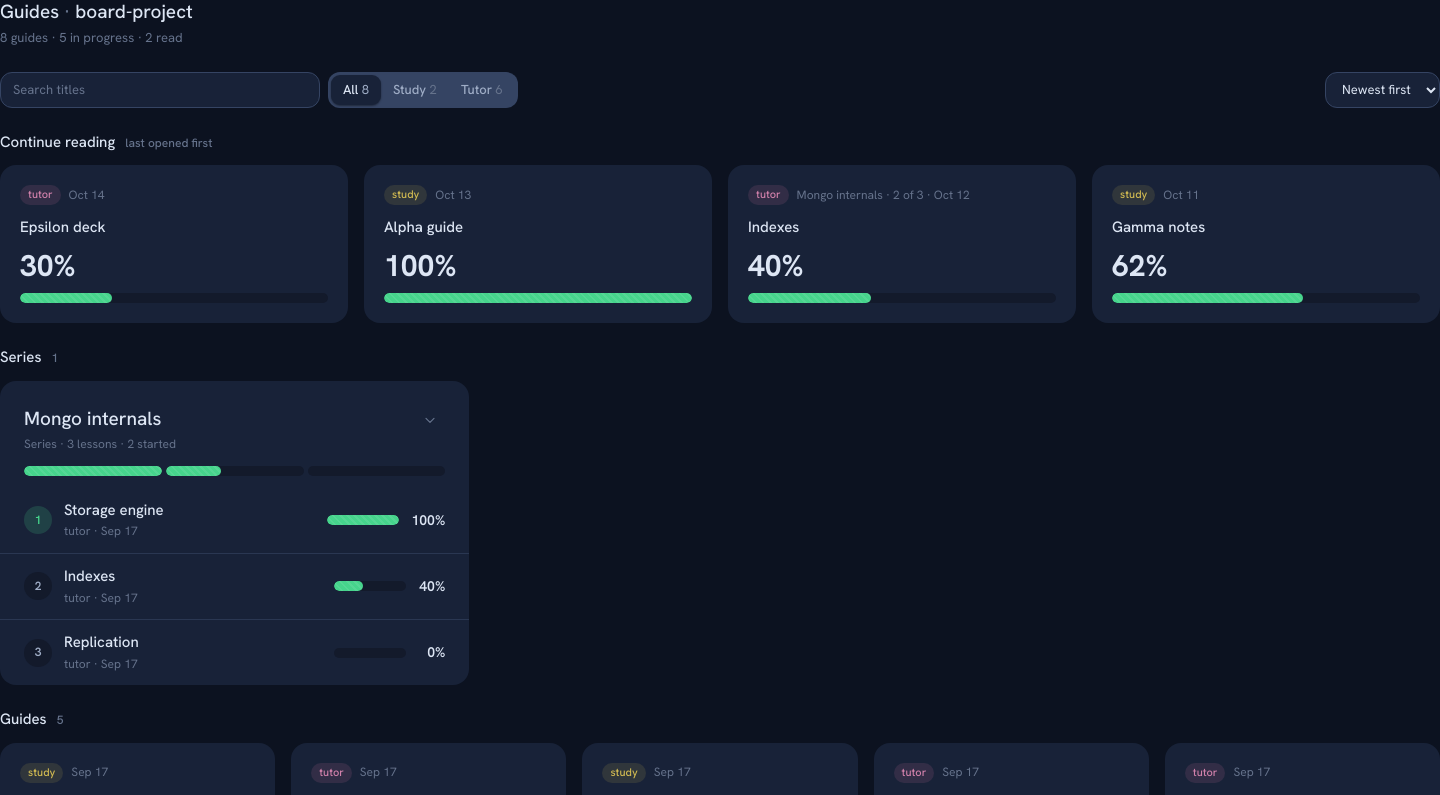
Test: GuidesView › hides Continue reading while a query runs, and again while a type is picked
This screenshot has width=1440, height=795.
Type "e" into the search field named "Search guides" at (160, 90), box [0,72,320,108]
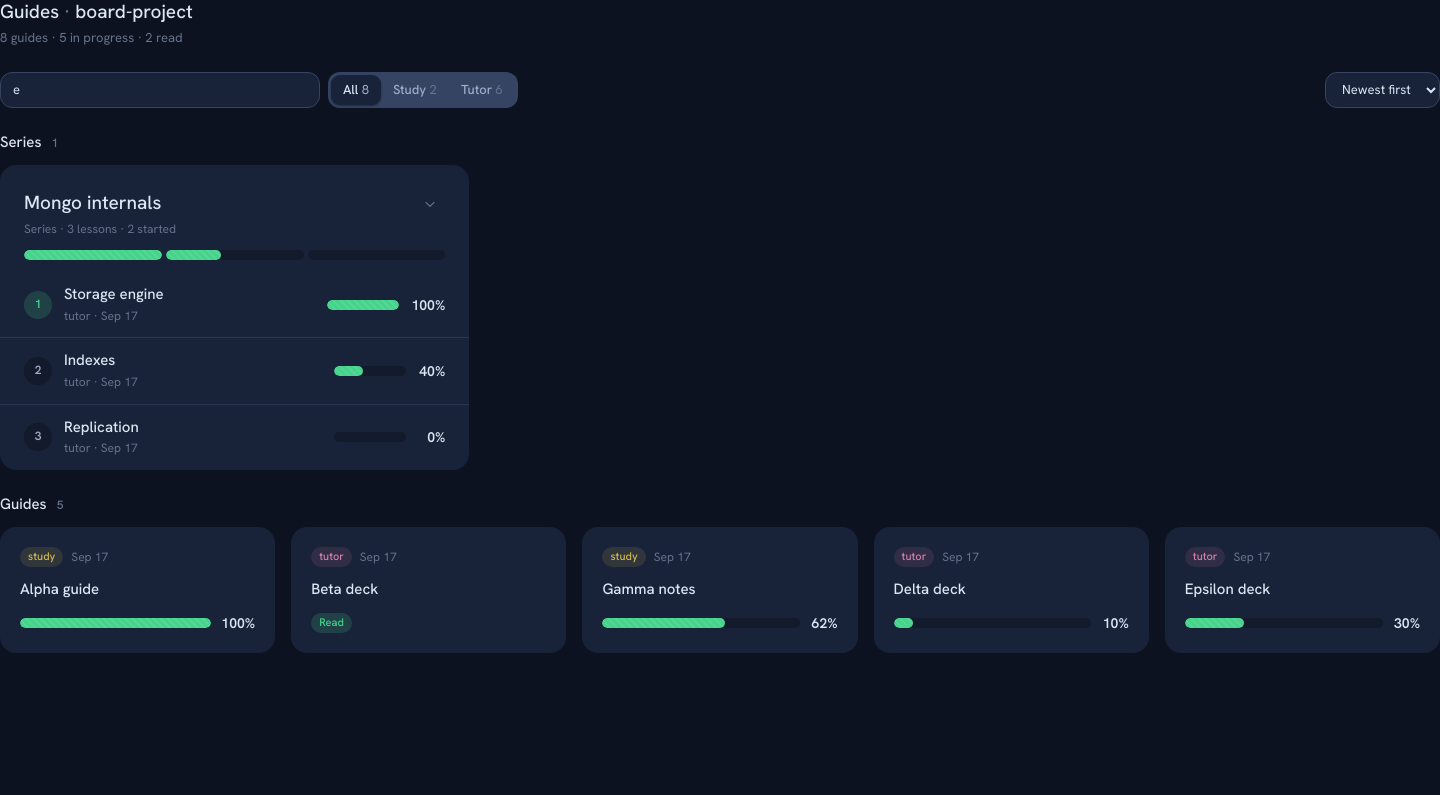
Check: the element with class "continue" is gone
Clear the search field named "Search guides" at (160, 90), box [0,72,320,108]
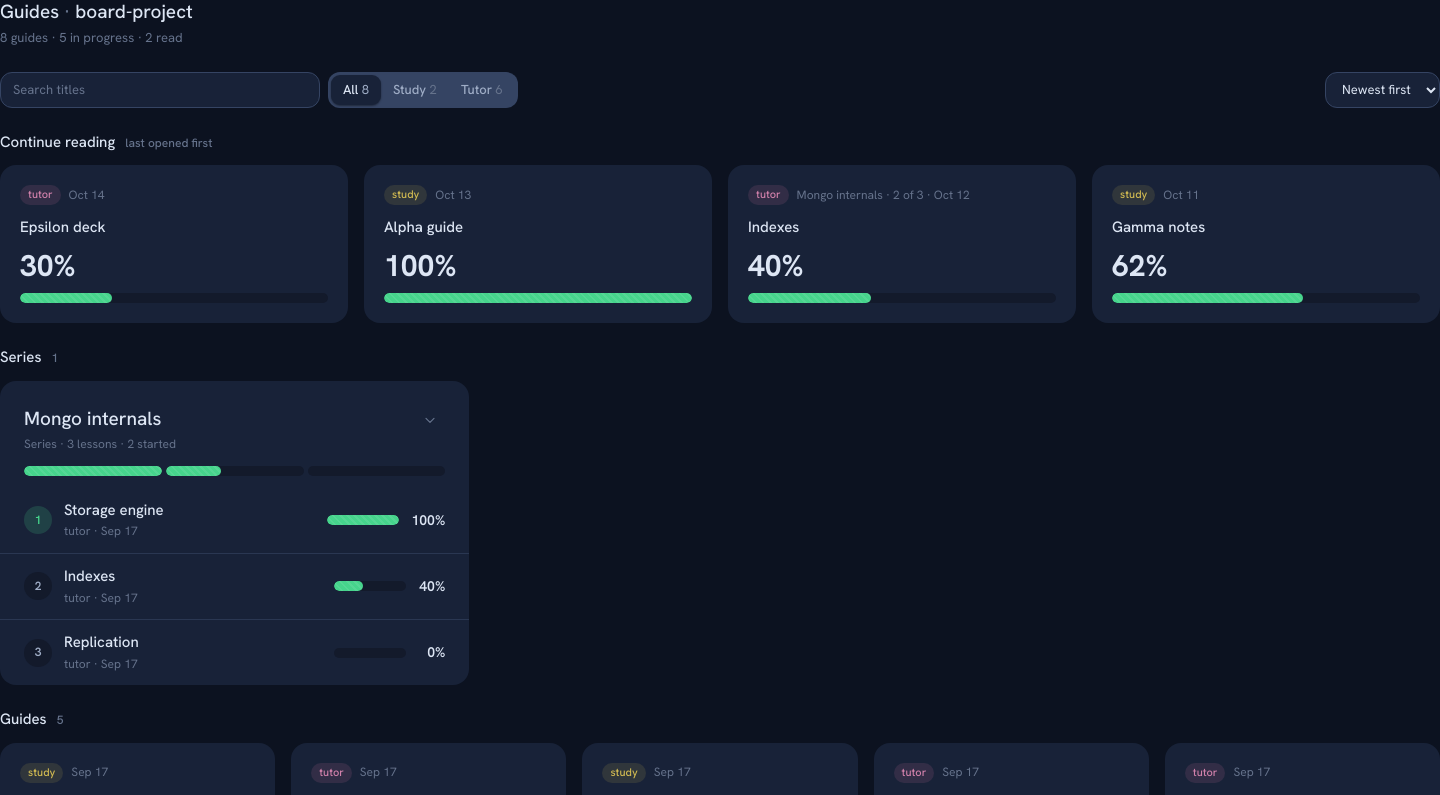
Check: the element with class "continue" is shown, box [0,132,1439,323]
Click the button "Study 2" at (415, 90), box [381,74,449,104]
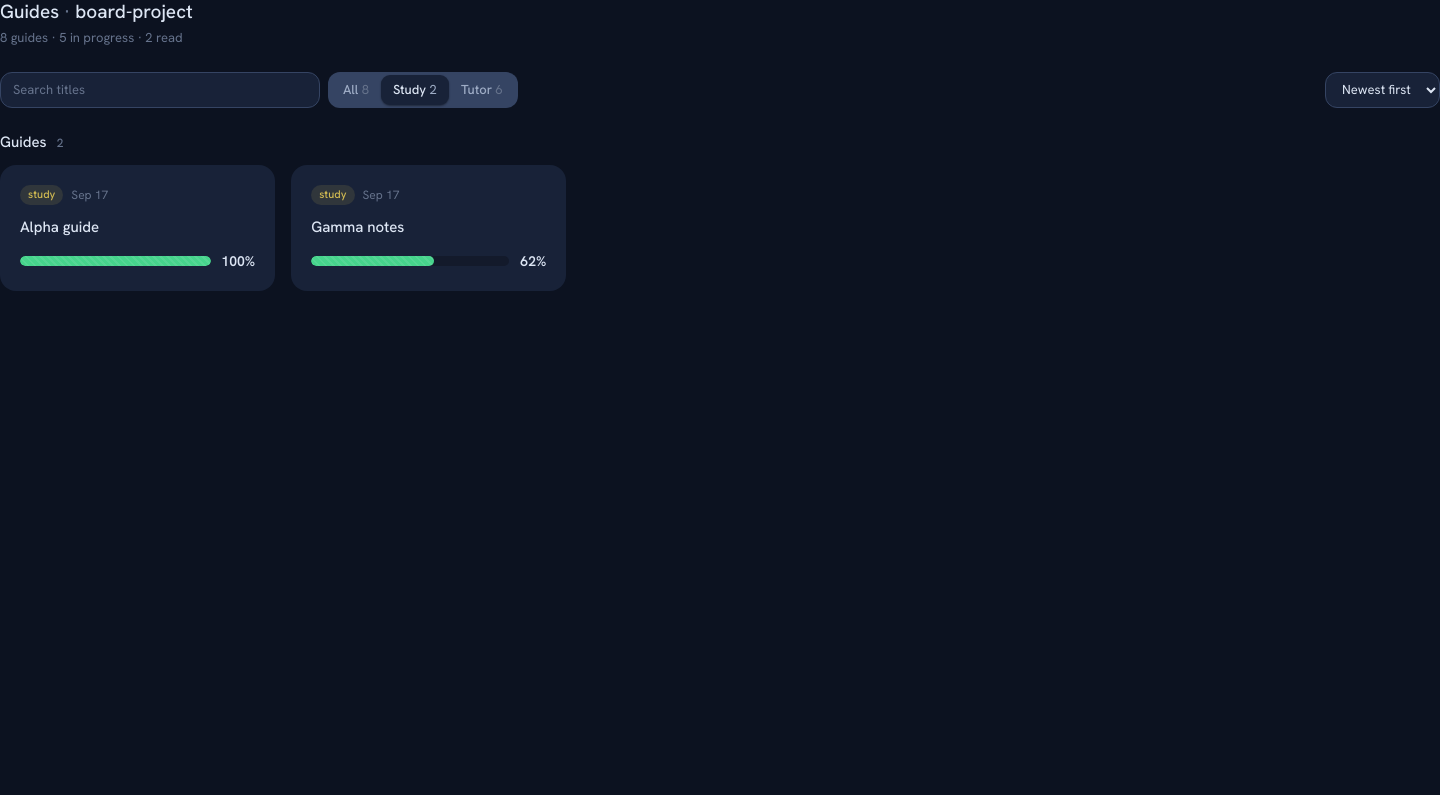
Check: the element with class "continue" is gone
